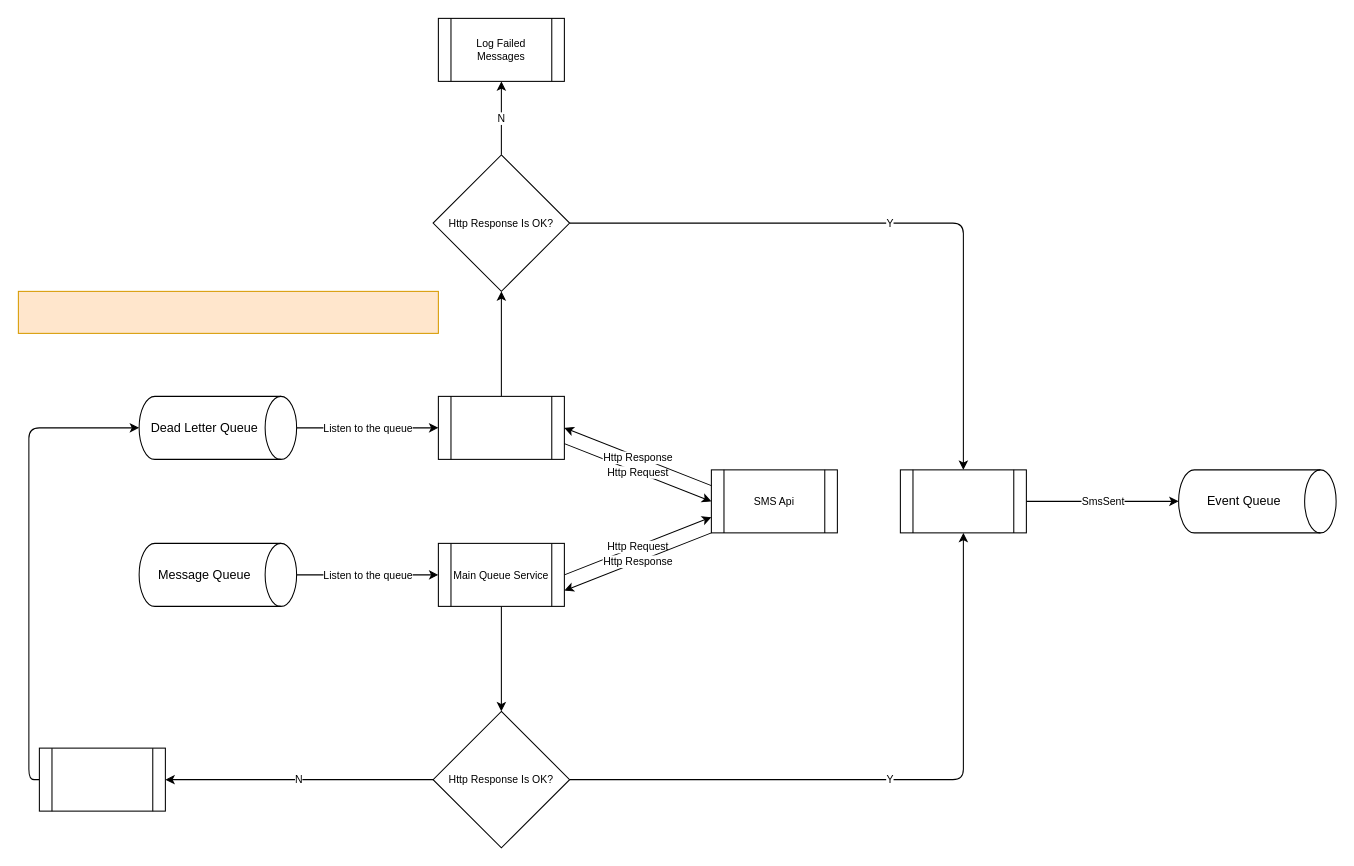
Image size: 1354x866. Some labels were removed from this diagram. Each missing label, with the centre of its shape:
"Dead Queue Service" goes at pixel 500 427.
"Publish Event" goes at pixel 962 501.
"Publish Message to Dead Letter" goes at pixel 101 779.
"Send SMS Microservice Architecture" goes at pixel 227 311.
